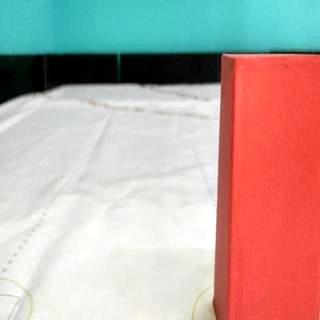redbox: (212, 53, 320, 320)
